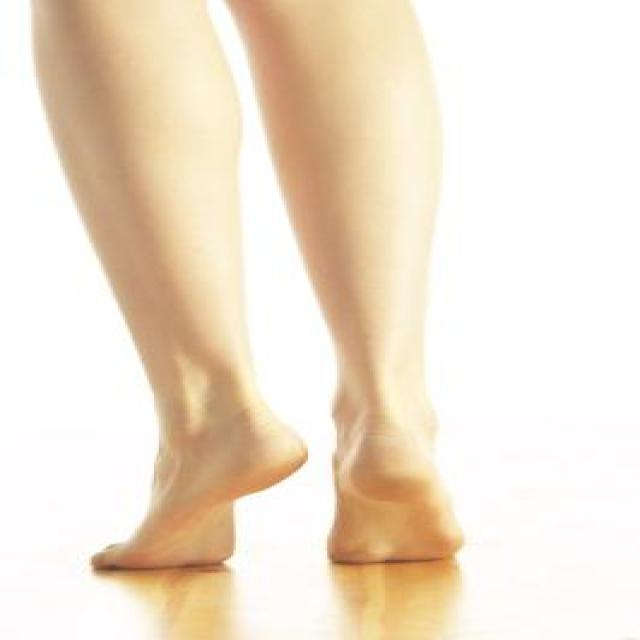Normal: (34, 56, 508, 376)
